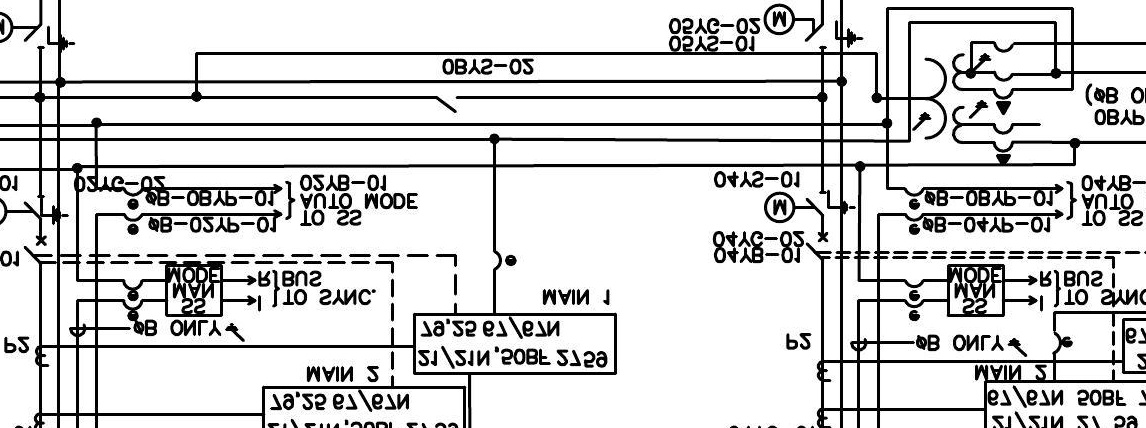115_3ways_ds_w_motor: (763, 2, 864, 49), (763, 189, 857, 224)
115_breaker: (23, 235, 48, 265), (805, 231, 829, 261)
115_ds: (434, 95, 460, 114)
115_vt_1p: (911, 52, 1015, 166)
ss_man_mode: (946, 263, 1006, 318), (164, 263, 224, 318)
